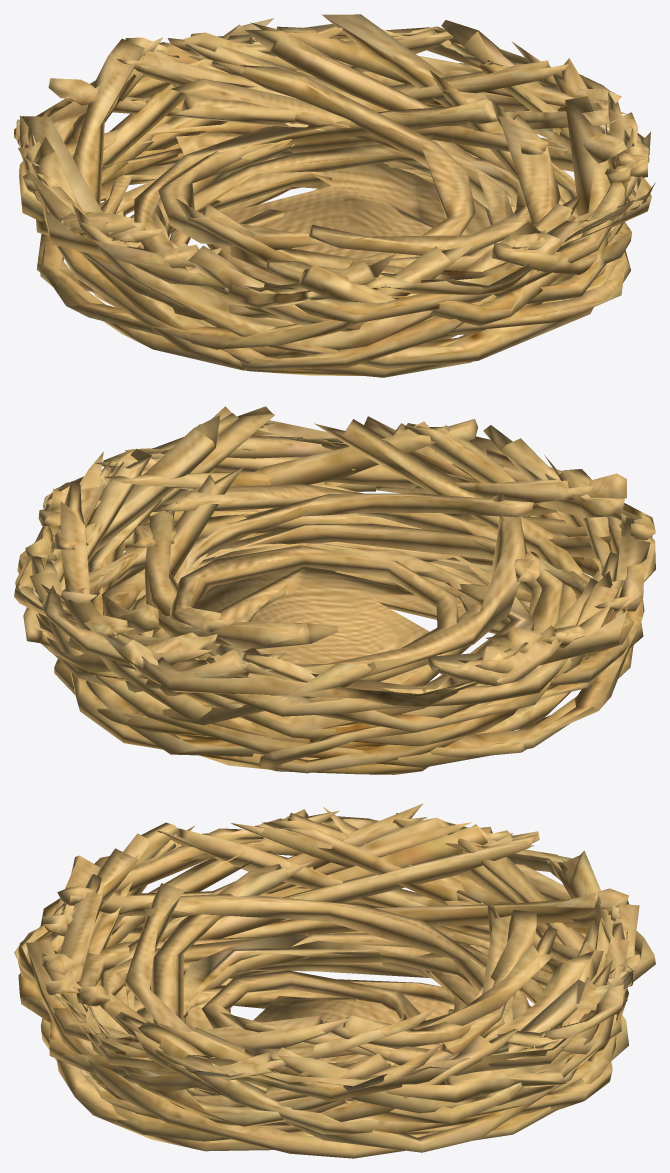
Rendered from s1_gen_basket_green.glb.
The picture shows the model from 3 angles, top to bottom: view 1: azimuth 30°, elevation 25°; view 2: azimuth 150°, elevation 25°; view 3: azimuth 270°, elevation 25°; orthographic projection. The views are drawn at different scales.
Size of the model in its own units: 1.69 by 0.368 by 1.69.
1 material, 1 textured.
